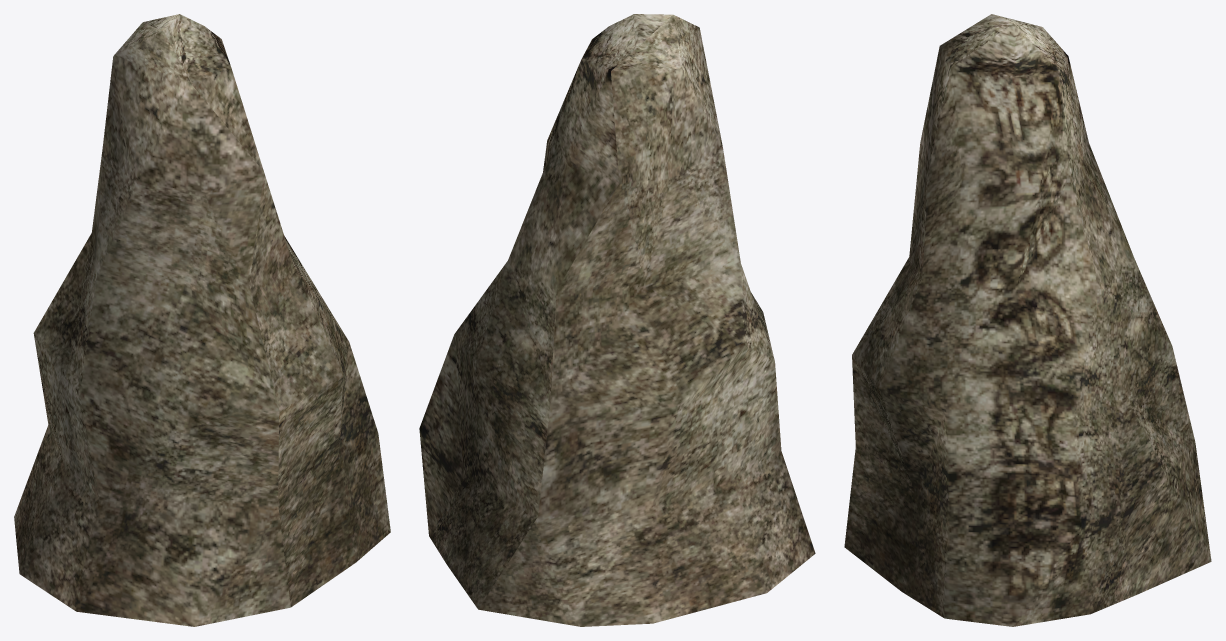
File: general_obj_txtstone.fbx
3 views of the same model, side by side, from view 1: azimuth 30°, elevation 25°; view 2: azimuth 150°, elevation 25°; view 3: azimuth 270°, elevation 25° (orthographic). The views are drawn at different scales.
Visible parts, largest first — view 1: Box01; view 2: Box01; view 3: Box01.
Boxes of the visible parts, <box> form: Box01: <box>14,14,390,626</box>; Box01: <box>419,14,815,626</box>; Box01: <box>844,14,1211,626</box>.
Size of the model in its own units: 1.84 by 2.77 by 1.8.
